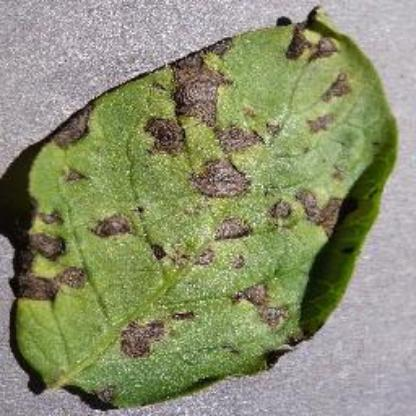Early-Blight: (10, 6, 398, 406)
